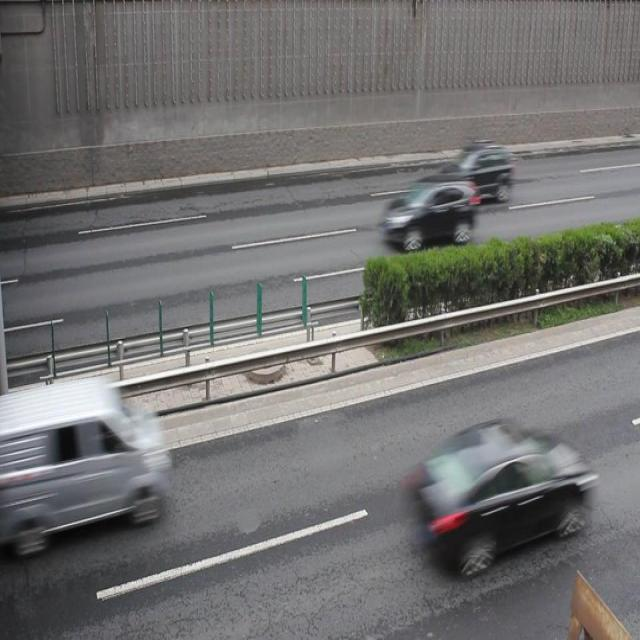car: (412, 417, 590, 575), (383, 173, 478, 250), (428, 141, 512, 205)
truck: (10, 379, 166, 548)
